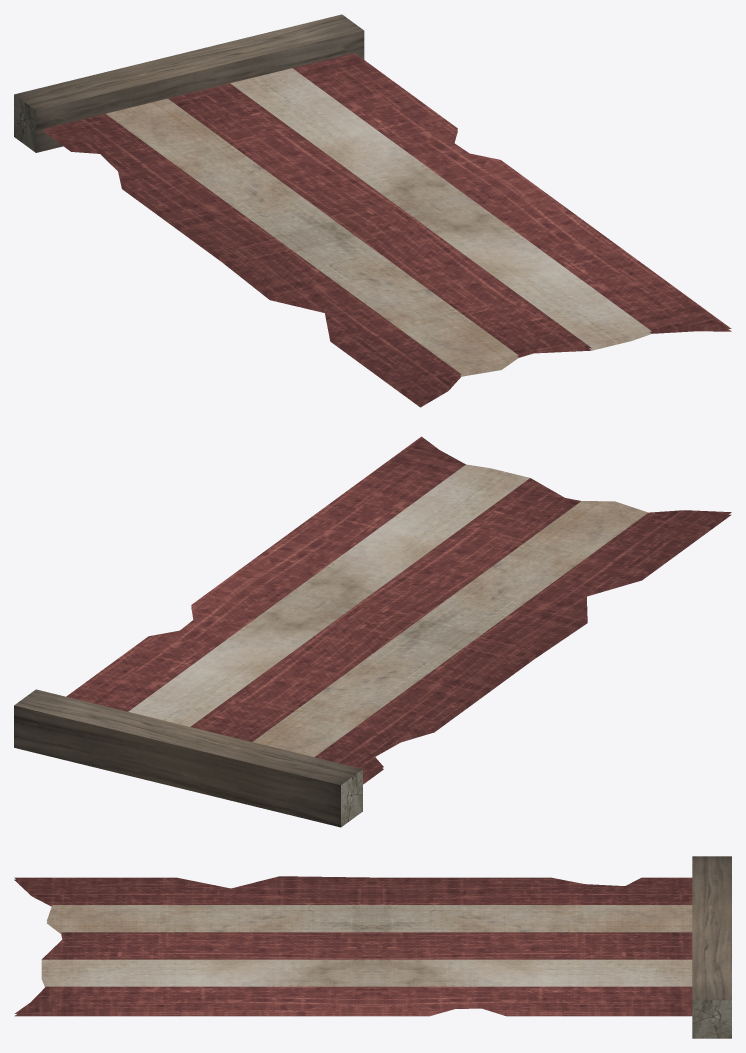
Rendered from Pirate_Banner_Stripes_C.fbx.
The picture shows the model from 3 angles, top to bottom: view 1: azimuth 30°, elevation 25°; view 2: azimuth 150°, elevation 25°; view 3: azimuth 270°, elevation 25°; orthographic projection. The views are drawn at different scales.
Visible parts, largest first — view 1: Pirate_Banner_Stripes_C; view 2: Pirate_Banner_Stripes_C; view 3: Pirate_Banner_Stripes_C.
Boxes of the visible parts, x1,y1,x2,y2 form: Pirate_Banner_Stripes_C: (14, 14, 731, 407); Pirate_Banner_Stripes_C: (14, 436, 731, 827); Pirate_Banner_Stripes_C: (14, 856, 731, 1038).
Size of the model in its own units: 1.2 by 0.1485 by 2.54.
